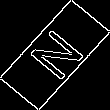N_SE: (21, 24, 89, 86)
